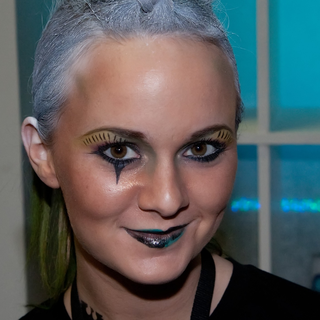eye: (88, 138, 147, 168), (176, 135, 226, 162)
